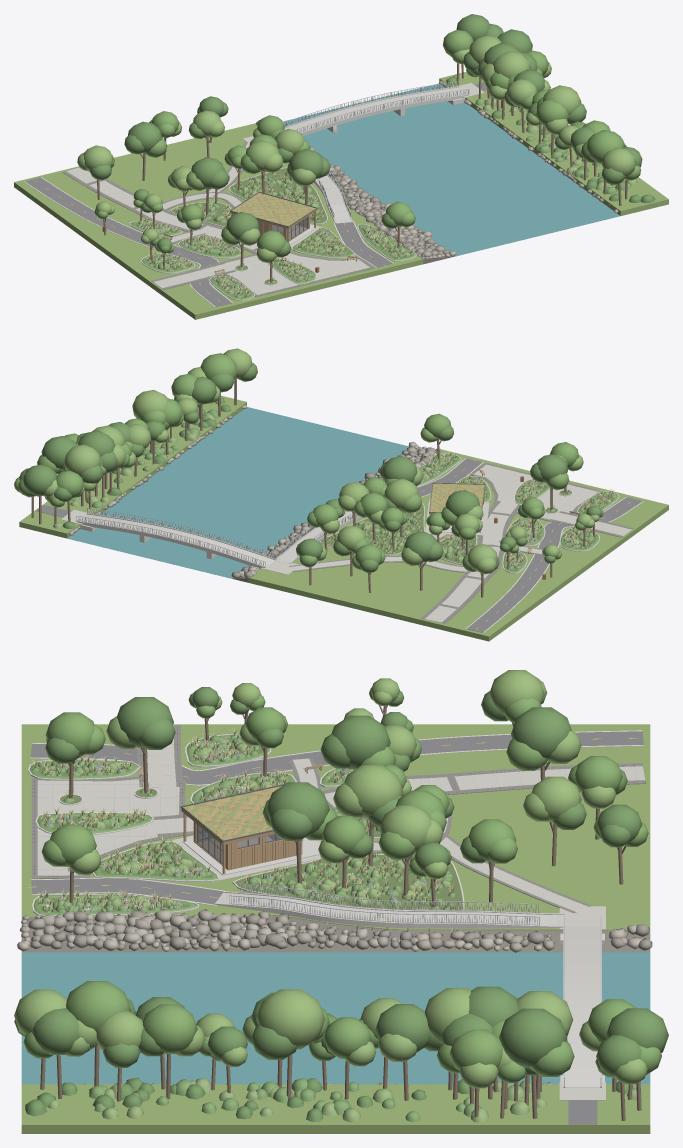
File: clay-princes-island-park-clay-v003.glb
3 views of the same model, one above another, from view 1: azimuth 30°, elevation 25°; view 2: azimuth 150°, elevation 25°; view 3: azimuth 270°, elevation 25° (orthographic). The views are drawn at different scales.
Parts seen in each view (by area): view 1: CLAY_WATER, CLAY_LAWN, CLAY_TREE3, CLAY_TREE2, CLAY_TREE, CLAY_PLANTING, CLAY_PAVING, CLAY_ASPHALT, CLAY_DECK, CLAY_SETT, CLAY_BARK, CLAY_CURB (+11 smaller); view 2: CLAY_WATER, CLAY_LAWN, CLAY_TREE3, CLAY_TREE2, CLAY_TREE, CLAY_PAVING, CLAY_PLANTING, CLAY_DECK, CLAY_ASPHALT, CLAY_SETT, CLAY_BARK, CLAY_RAIL (+11 smaller); view 3: CLAY_LAWN, CLAY_WATER, CLAY_TREE3, CLAY_TREE2, CLAY_TREE, CLAY_PLANTING, CLAY_PAVING, CLAY_DECK, CLAY_ASPHALT, CLAY_BARK, CLAY_ROCK2, CLAY_SHRUB (+16 smaller).
Part boxes in pixels (<box>): CLAY_WATER: <box>283,83,620,256</box>; CLAY_LAWN: <box>14,72,668,319</box>; CLAY_TREE3: <box>89,14,655,257</box>; CLAY_TREE2: <box>77,29,635,262</box>; CLAY_TREE: <box>97,29,640,255</box>; CLAY_PLANTING: <box>130,98,636,299</box>; CLAY_PAVING: <box>66,83,484,294</box>; CLAY_ASPHALT: <box>25,82,487,306</box>; CLAY_DECK: <box>284,86,469,223</box>; CLAY_SETT: <box>63,142,374,297</box>; CLAY_BARK: <box>97,63,627,282</box>; CLAY_CURB: <box>24,167,416,306</box>; CLAY_WATER: <box>67,407,408,578</box>; CLAY_LAWN: <box>19,395,668,641</box>; CLAY_TREE3: <box>19,362,603,573</box>; CLAY_TREE2: <box>14,348,599,574</box>; CLAY_TREE: <box>18,353,586,572</box>; CLAY_PAVING: <box>61,464,632,623</box>; CLAY_PLANTING: <box>70,409,617,572</box>; CLAY_DECK: <box>76,511,362,567</box>; CLAY_ASPHALT: <box>36,458,642,632</box>; CLAY_SETT: <box>289,462,633,623</box>; CLAY_BARK: <box>31,379,594,597</box>; CLAY_RAIL: <box>76,508,358,566</box>; CLAY_LAWN: <box>21,724,650,1133</box>; CLAY_WATER: <box>21,952,650,1084</box>; CLAY_TREE3: <box>14,687,668,1121</box>; CLAY_TREE2: <box>14,670,647,1088</box>; CLAY_TREE: <box>23,687,661,1082</box>; CLAY_PLANTING: <box>30,734,531,1121</box>; CLAY_PAVING: <box>37,725,645,1100</box>; CLAY_DECK: <box>214,891,601,1087</box>; CLAY_ASPHALT: <box>30,731,643,1124</box>; CLAY_BARK: <box>40,705,641,1120</box>; CLAY_ROCK2: <box>30,909,652,1085</box>; CLAY_SHRUB: <box>48,739,642,1122</box>.
Bounding box in the file's own units: 101 × 13.58 × 67.7.
